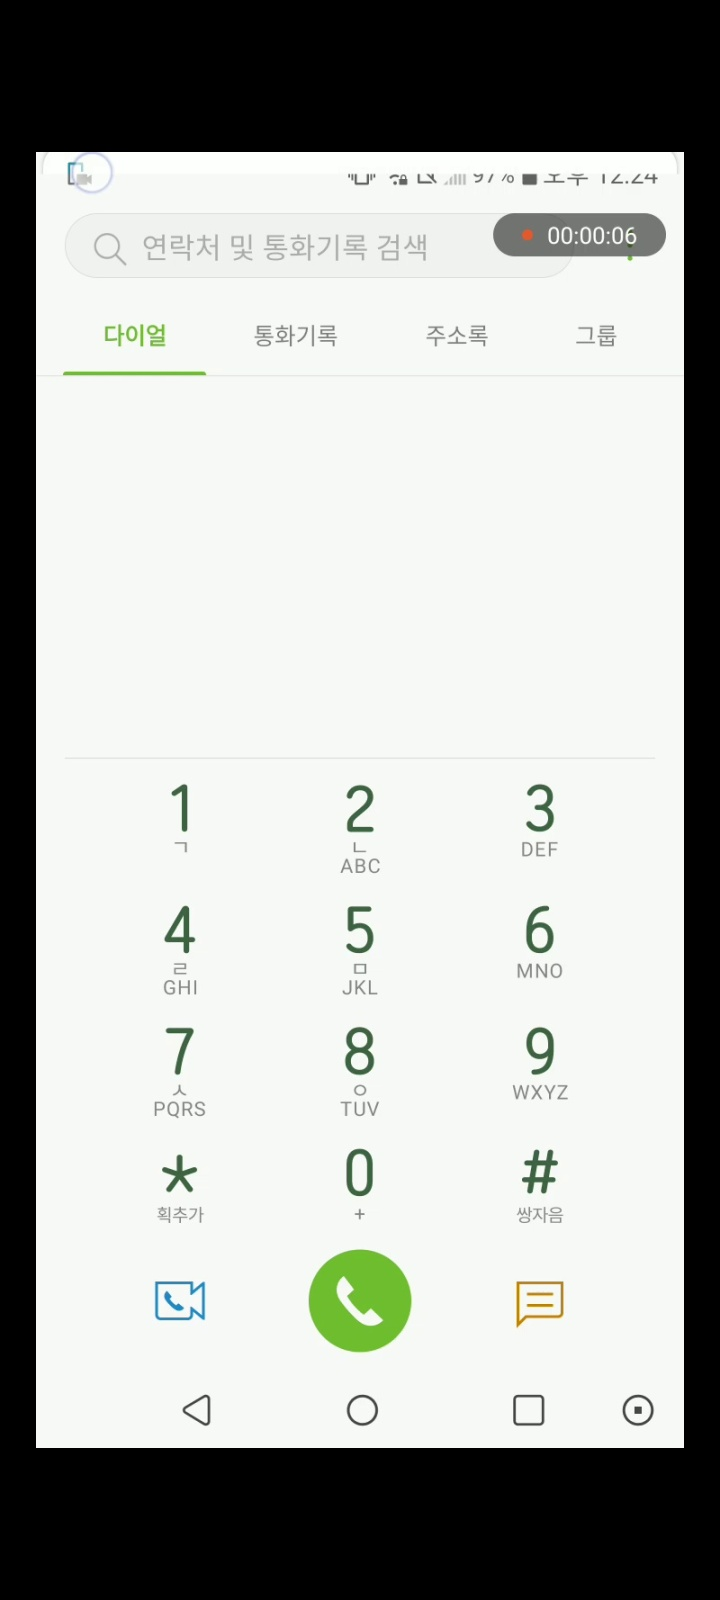Cursor: (72, 153, 117, 197)
